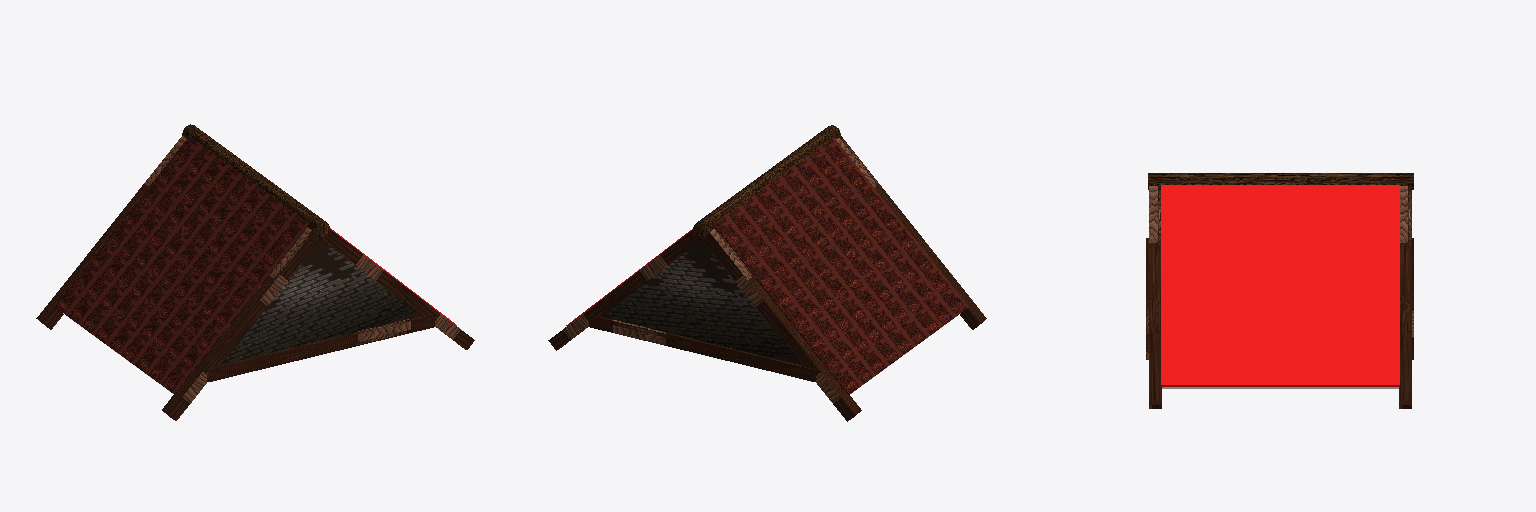
3 views of the same model, side by side, from view 1: azimuth 30°, elevation 25°; view 2: azimuth 150°, elevation 25°; view 3: azimuth 270°, elevation 25° (orthographic).
Visible parts, largest first — view 1: Cube-Merged1; view 2: Cube-Merged1; view 3: Cube-Merged1.
Boxes of the visible parts, x1=… form: Cube-Merged1: x1=36, y1=124, x2=474, y2=420; Cube-Merged1: x1=548, y1=125, x2=986, y2=421; Cube-Merged1: x1=1146, y1=173, x2=1413, y2=408.
Bounding box in the file's own units: 13.24 × 6.79 × 10.
7 materials, 4 textured.